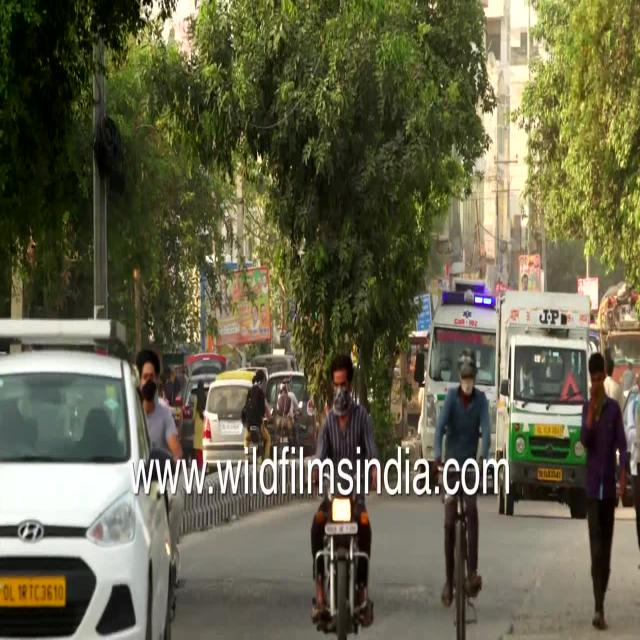ambulance: (417, 280, 497, 489)
